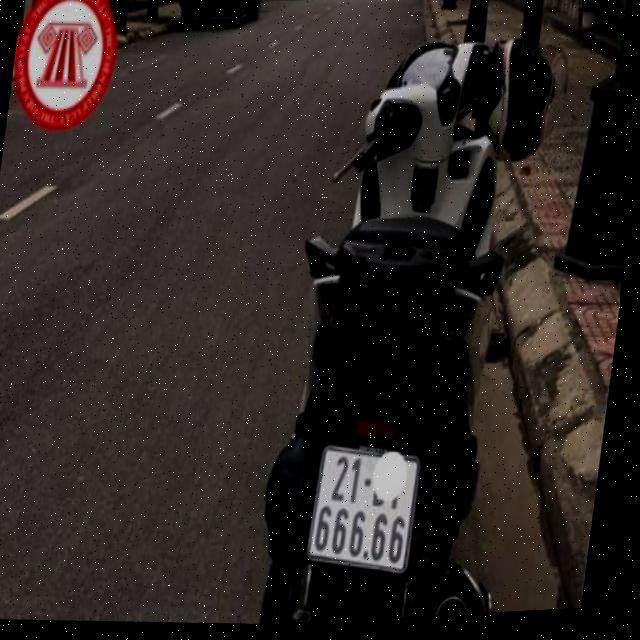motorcycle: (241, 0, 562, 626)
plate: (301, 433, 428, 580)
